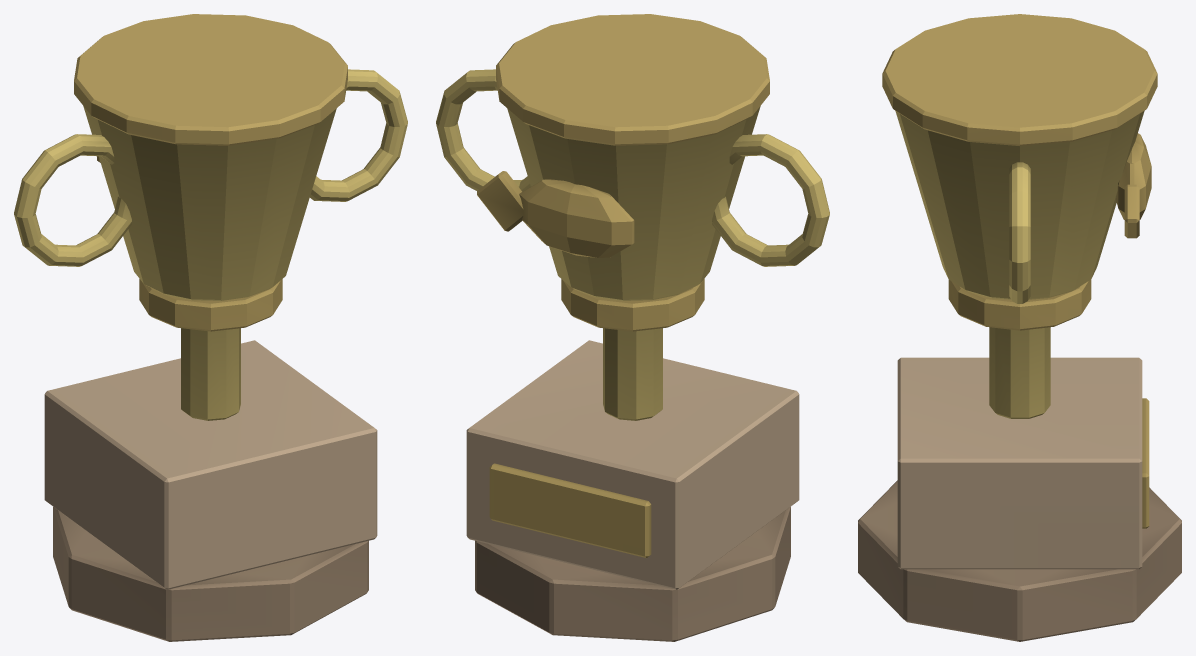
The model's file is event_trophy_fish_gold.glb.
The picture shows the model from 3 angles, left to right: view 1: azimuth 30°, elevation 25°; view 2: azimuth 150°, elevation 25°; view 3: azimuth 270°, elevation 25°; orthographic projection.
Size of the model in its own units: 0.441 by 0.545 by 0.3177.
